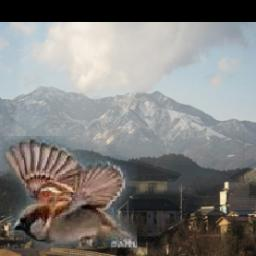Sparrow: (2, 137, 137, 248)
